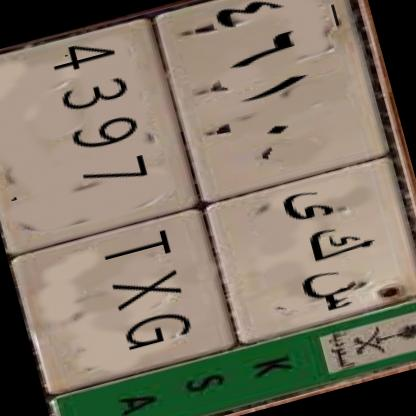english: (0, 7, 247, 402)
